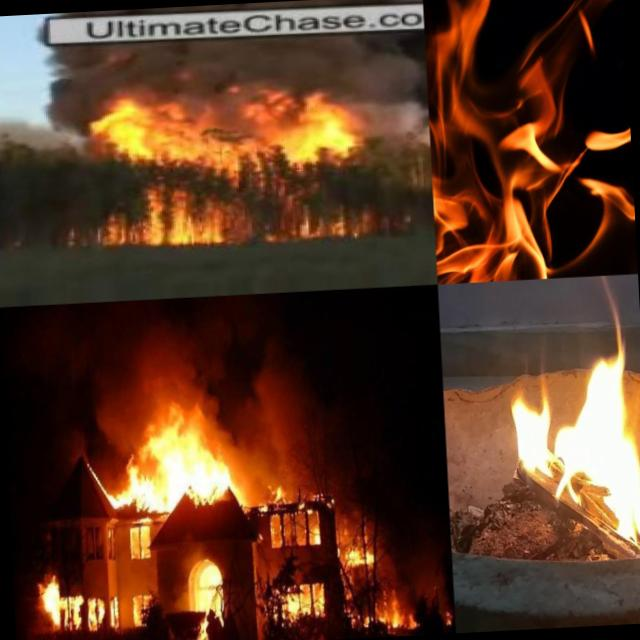fire: (422, 0, 637, 285), (494, 274, 640, 563), (111, 406, 233, 519), (240, 92, 362, 166), (96, 192, 229, 252), (80, 91, 187, 163), (38, 567, 121, 635), (258, 476, 321, 550), (346, 586, 419, 634), (278, 578, 332, 628), (340, 536, 374, 580), (126, 524, 158, 564), (128, 584, 156, 628), (440, 596, 456, 634)
smoke: (51, 33, 352, 106), (349, 39, 431, 163)
